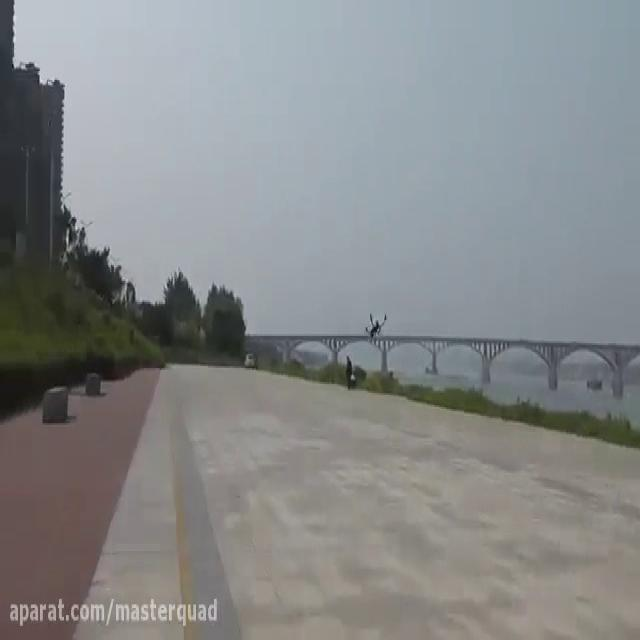drone: (362, 308, 390, 336)
